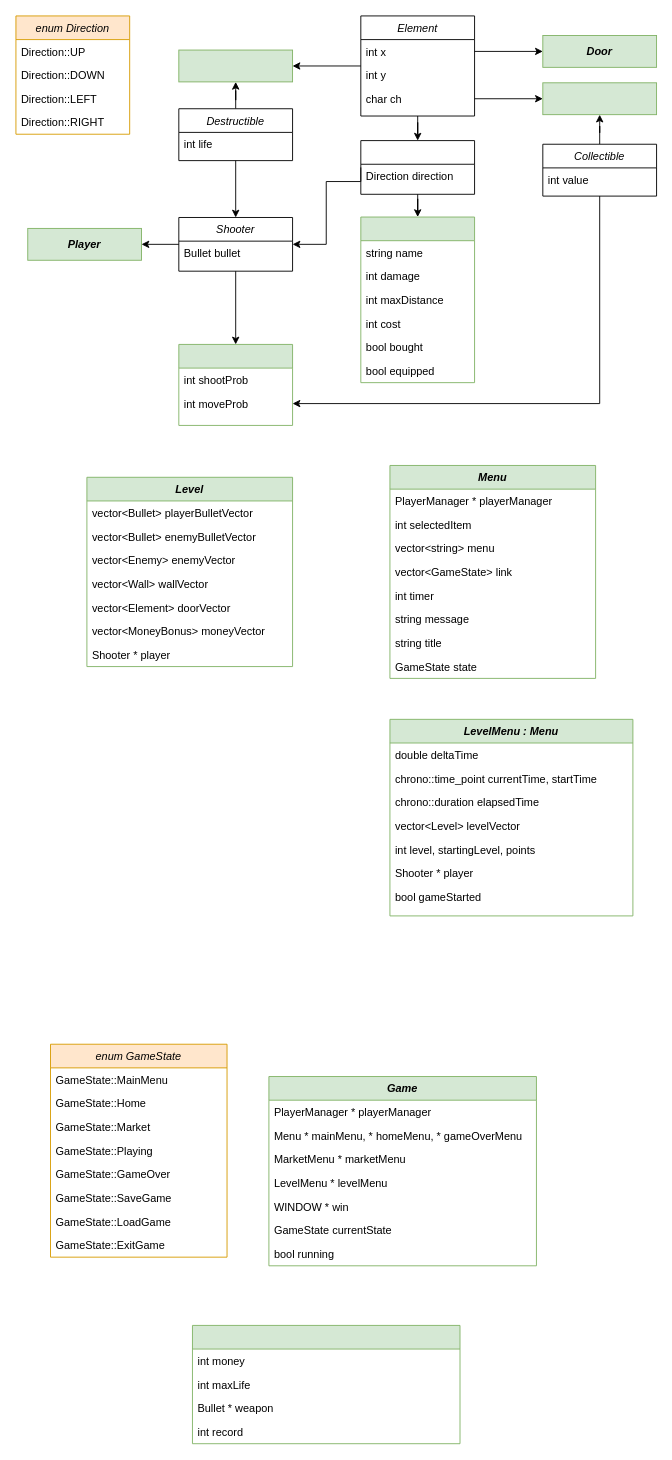
Some shapes in this 672 by 1460 pixel diagram are drawn without their labels. The shapes that lost their labels are listed below. From the top down, each one's box as (x1, y1, x2, y2) in pixels, then its label:
(178, 49, 293, 82): Wall
(542, 82, 657, 115): MoneyBonus
(360, 140, 475, 194): Movable
(360, 216, 475, 383): Bullet
(178, 344, 293, 425): Enemy
(192, 1325, 460, 1444): PlayerManager
